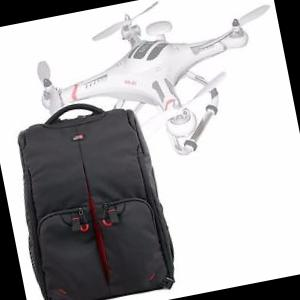drone: (5, 0, 296, 179)
